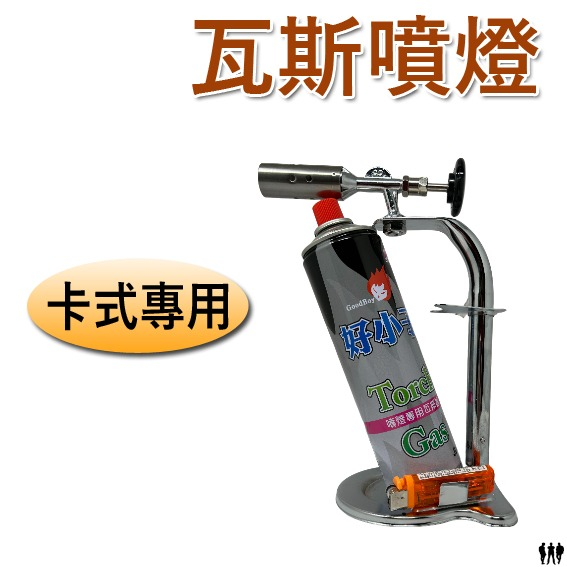gastorch: (252, 155, 520, 530)
